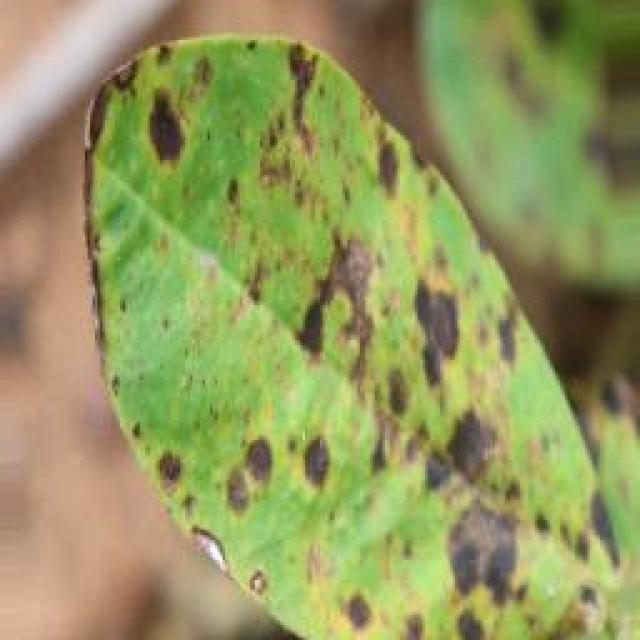Yellowish: (71, 43, 609, 640)
